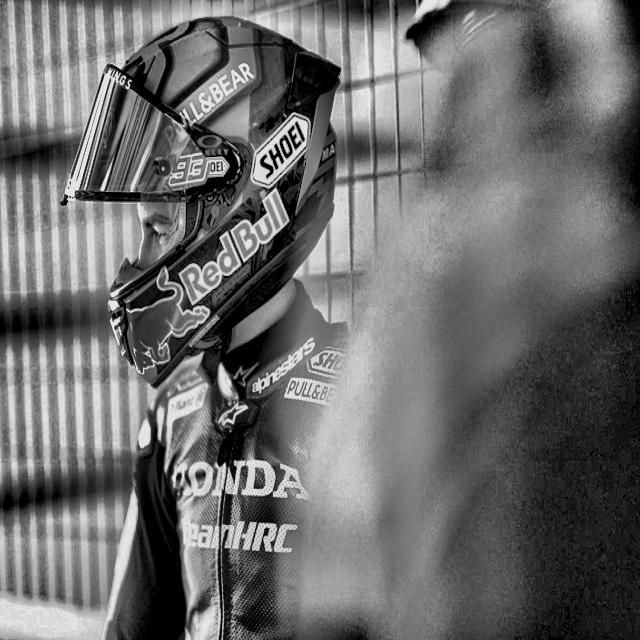Helmet: (62, 13, 350, 395)
